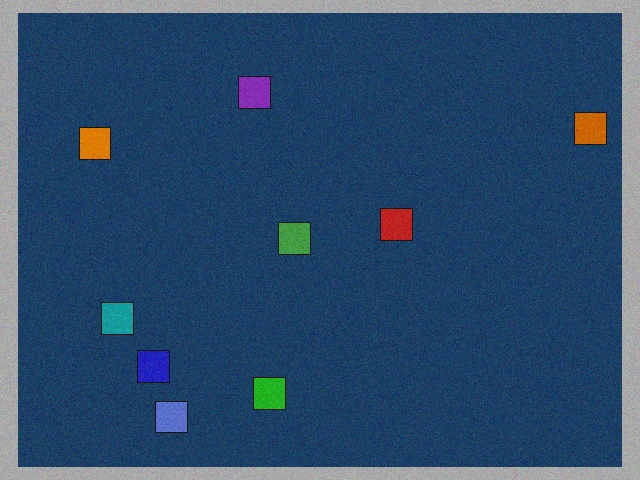block: (561, 113, 607, 150), (156, 392, 195, 433), (79, 127, 122, 164), (137, 345, 177, 383), (101, 299, 143, 334), (238, 76, 273, 115), (254, 370, 288, 410), (378, 208, 413, 240), (279, 222, 311, 254)
